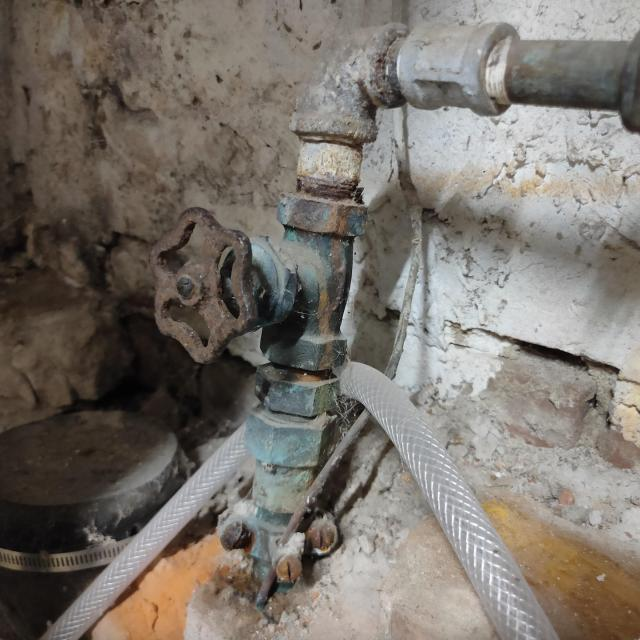Wheel Handle Valve Threaded: (152, 193, 363, 421)
